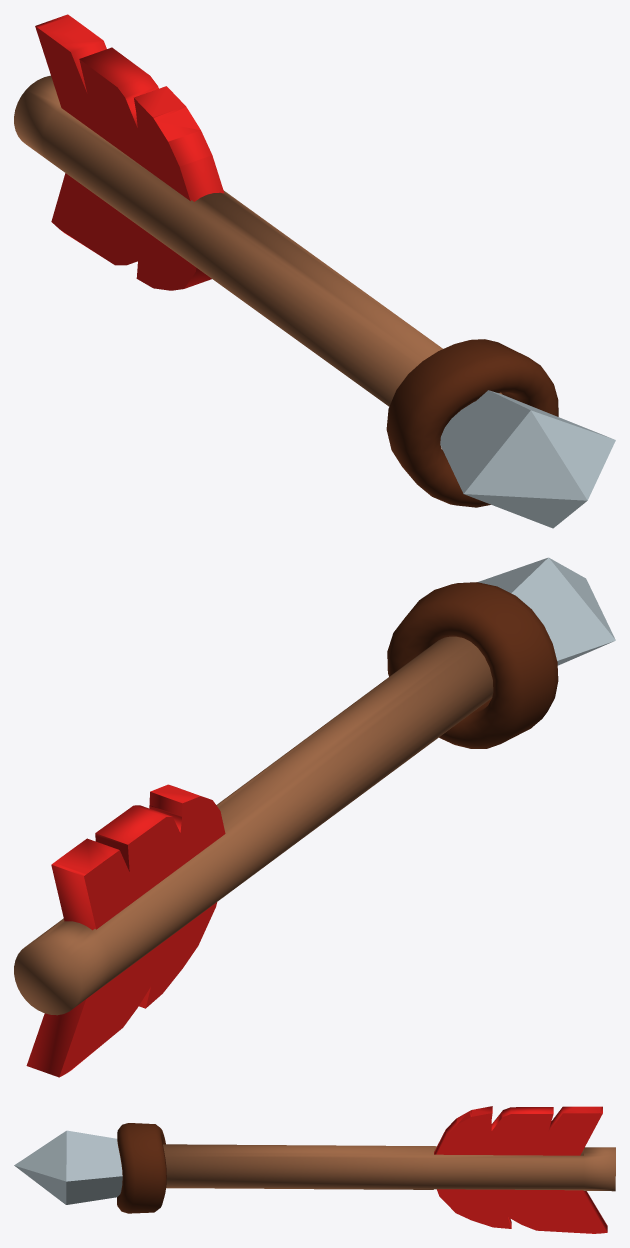
Rendered from arrow.glb.
3 renders of one model, top to bottom at view 1: azimuth 30°, elevation 25°; view 2: azimuth 150°, elevation 25°; view 3: azimuth 270°, elevation 25°, orthographic. The views are drawn at different scales.
Parts seen in each view (by area): view 1: arrow; view 2: arrow; view 3: arrow.
Part boxes in pixels (<box>): arrow: <box>14,14,615,528</box>; arrow: <box>14,557,615,1077</box>; arrow: <box>14,1106,615,1233</box>.
Size of the model in its own units: 0.1958 by 0.2583 by 1.2.
